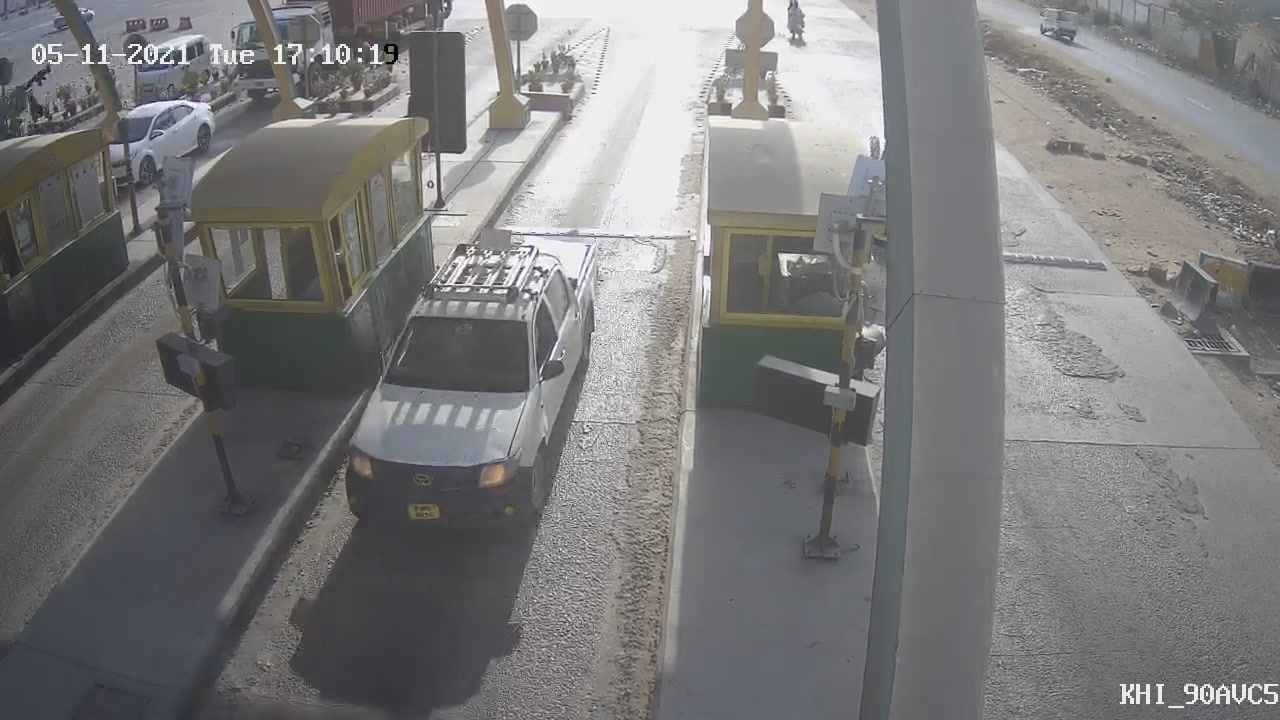F1: (321, 214, 613, 560)
